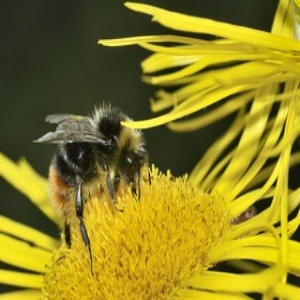bee: (32, 98, 147, 283)
